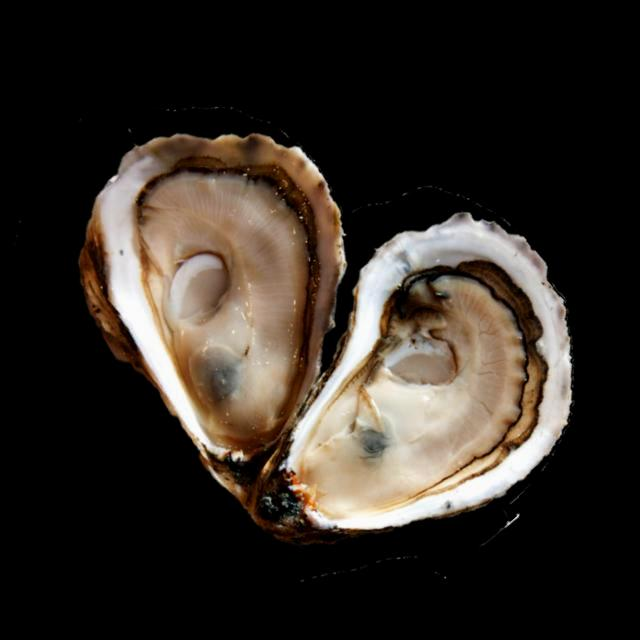Oyster-Open: (217, 216, 576, 553), (77, 134, 345, 531)
